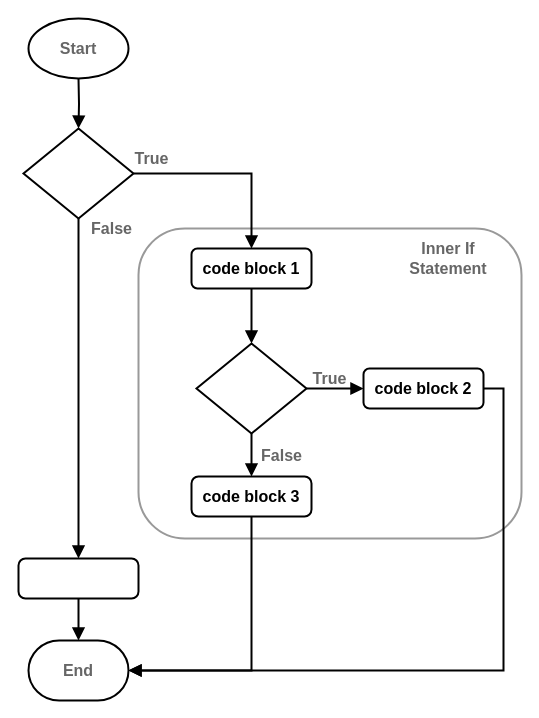
Some shapes in this 539 by 718 pixel diagram are drawn without their labels. Each missing label, with the box of its shape:
code block 4: (17, 557, 139, 599)
condition 1: (22, 127, 134, 219)
condition 2: (195, 342, 307, 434)
